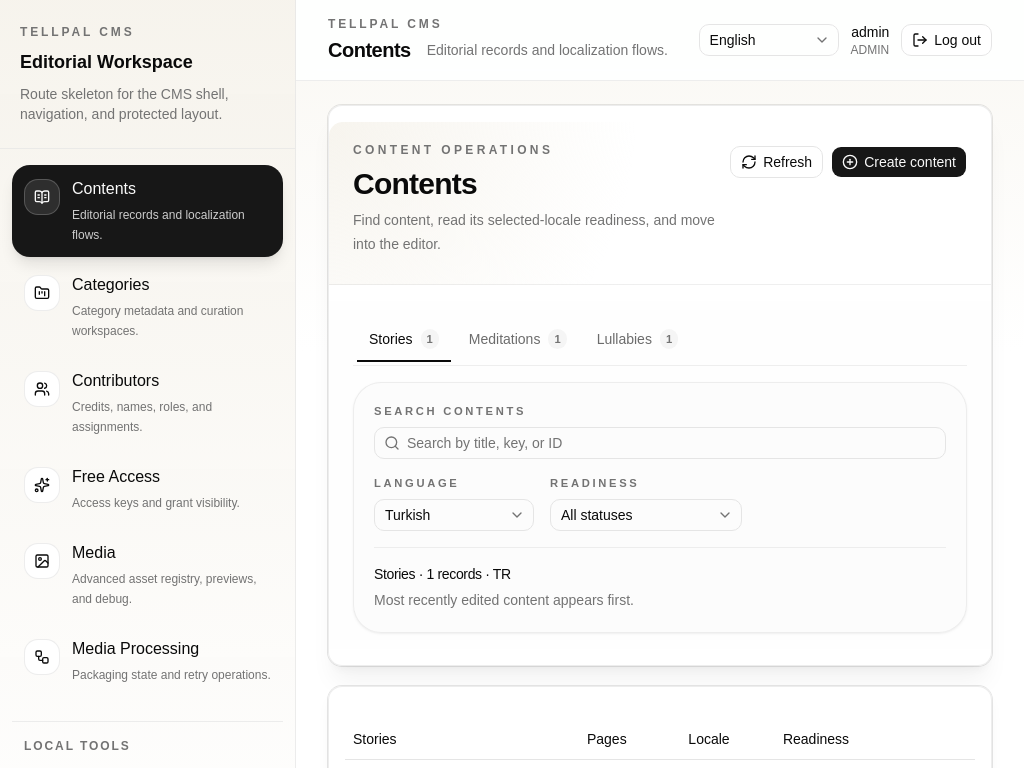
Test: CMS router auth flow › filters content registry rows by type and state
Check: the heading "Contents" below "Content operations" is shown, box [353,167,477,200]
Press the mouse on the tab "Meditations 1": coordinates (518, 339) [456,320,580,358]
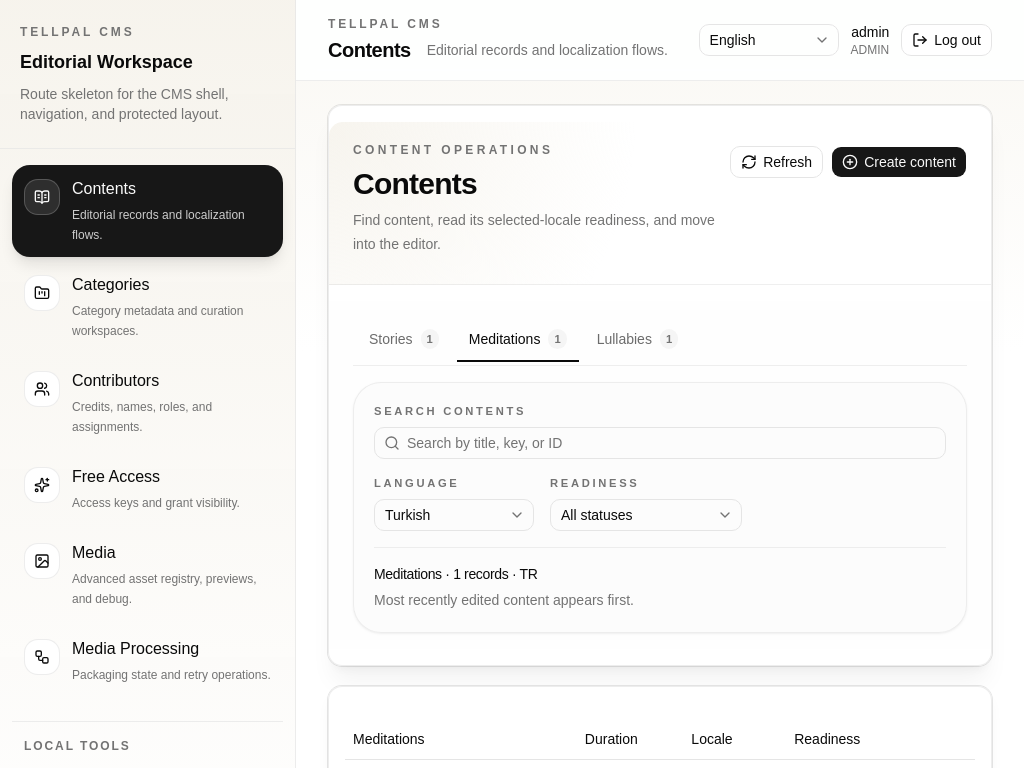
Check: the text "Meditations · 1 records · TR" is shown, box [374,566,538,582]
